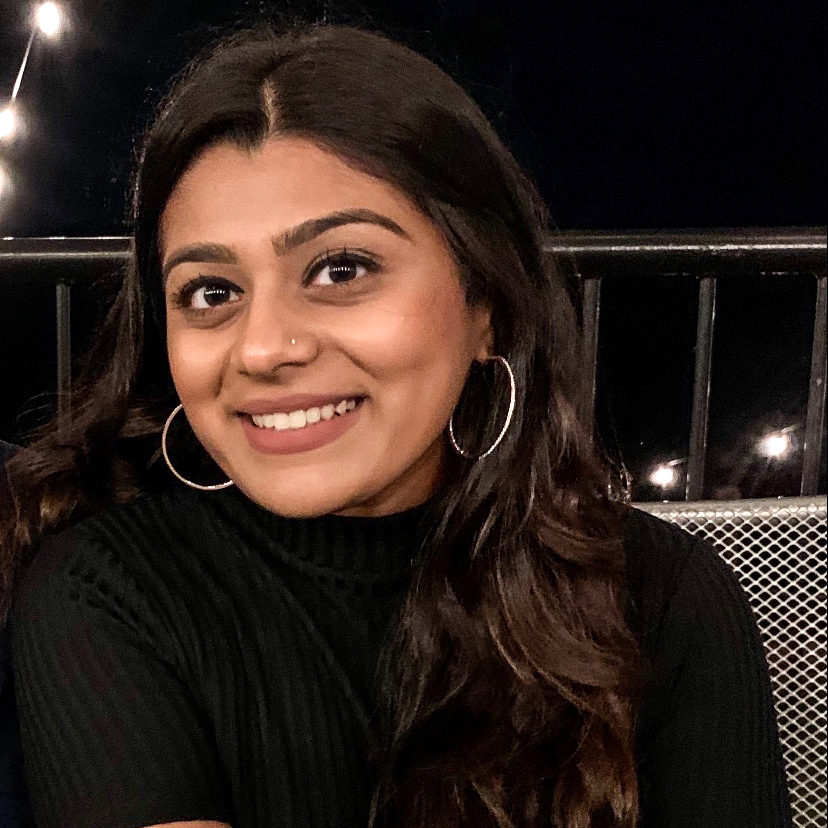women: (103, 20, 589, 570)
